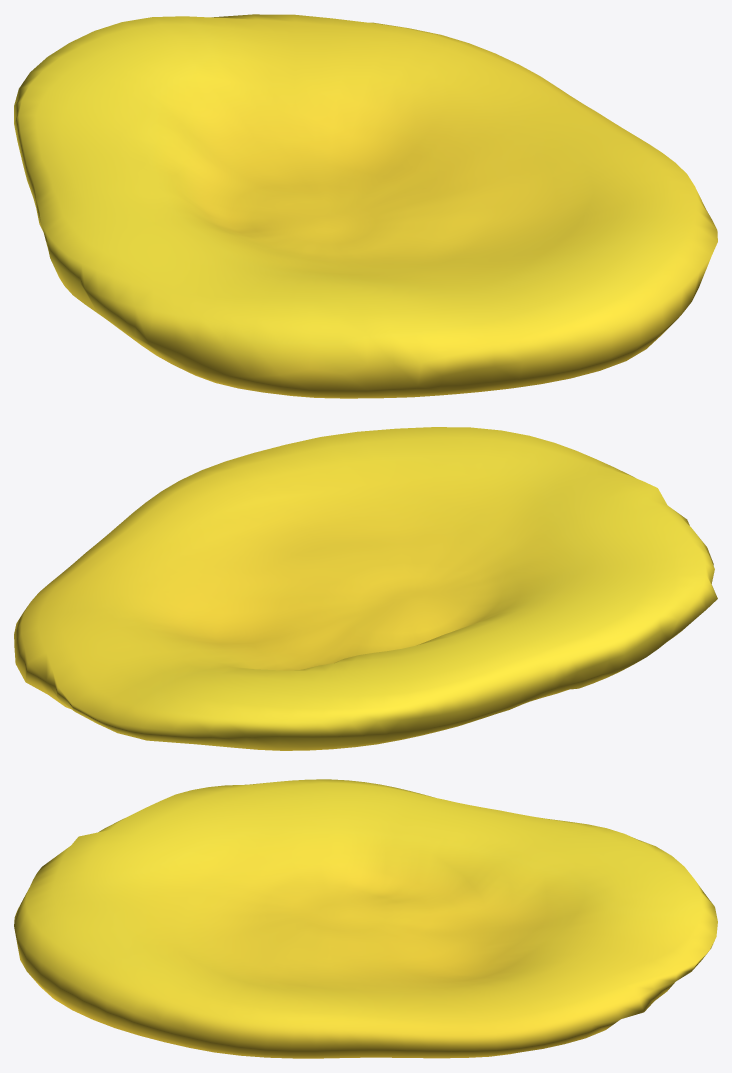
File: MashedPotatoes.fbx
3 renders of one model, top to bottom at view 1: azimuth 30°, elevation 25°; view 2: azimuth 150°, elevation 25°; view 3: azimuth 270°, elevation 25°, orthographic. The views are drawn at different scales.
Parts seen in each view (by area): view 1: Sphere; view 2: Sphere; view 3: Sphere.
Part boxes in pixels (bbox=[...]): Sphere: bbox=[14, 14, 717, 398]; Sphere: bbox=[14, 427, 717, 750]; Sphere: bbox=[14, 779, 717, 1058].
Size of the model in its own units: 462 by 79.16 by 590.
